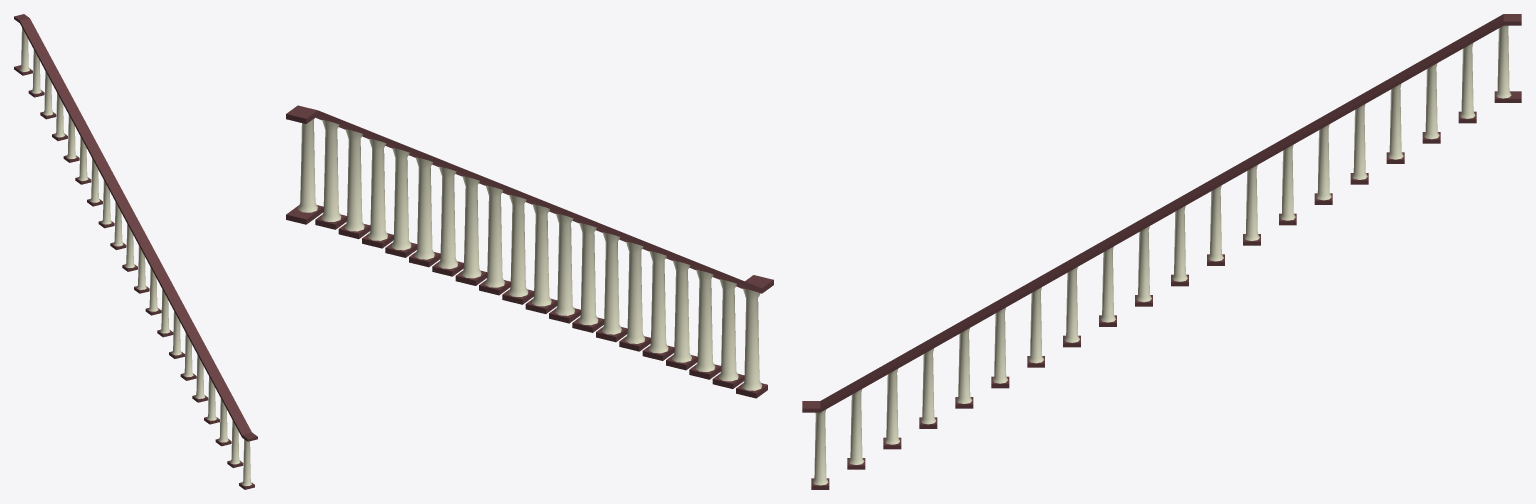
Rendered from PR_StairRailing.fbx.
The picture shows the model from 3 angles, left to right: view 1: azimuth 30°, elevation 25°; view 2: azimuth 150°, elevation 25°; view 3: azimuth 270°, elevation 25°; orthographic projection. The views are drawn at different scales.
Visible parts, largest first — view 1: Railing, Pillars, PillarBases, BottomPillar, TopPillar; view 2: Pillars, PillarBases, Railing, BottomPillar, TopPillar; view 3: Pillars, Railing, PillarBases, BottomPillar, TopPillar.
Part boxes in pixels (bbox=[...]): Railing: bbox=[14, 14, 257, 441]; Pillars: bbox=[31, 49, 240, 464]; PillarBases: bbox=[14, 65, 254, 489]; BottomPillar: bbox=[242, 439, 251, 485]; TopPillar: bbox=[20, 28, 29, 71]; Pillars: bbox=[321, 120, 738, 381]; PillarBases: bbox=[286, 205, 767, 398]; Railing: bbox=[286, 105, 773, 293]; BottomPillar: bbox=[742, 288, 761, 390]; TopPillar: bbox=[298, 118, 317, 212]; Pillars: bbox=[848, 43, 1475, 464]; Railing: bbox=[802, 14, 1521, 412]; PillarBases: bbox=[811, 91, 1521, 489]; BottomPillar: bbox=[812, 409, 828, 485]; TopPillar: bbox=[1495, 25, 1511, 98].
Bounding box in the file's own units: 20 × 575 × 800.
